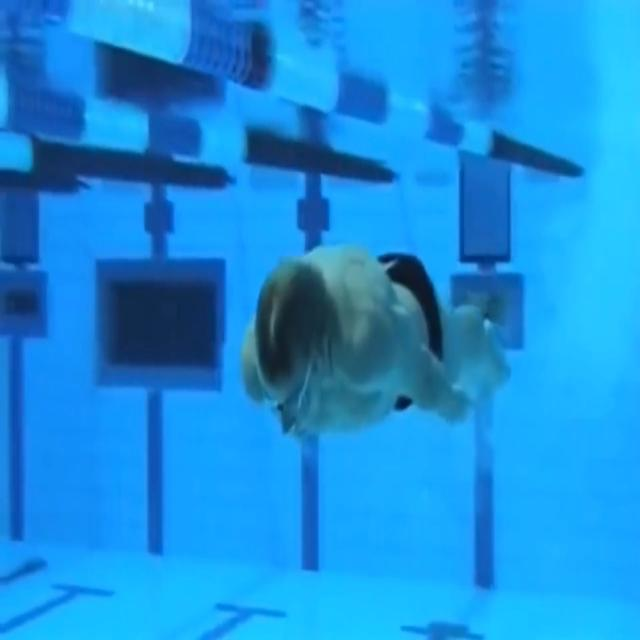Swimming: (240, 246, 510, 443)
